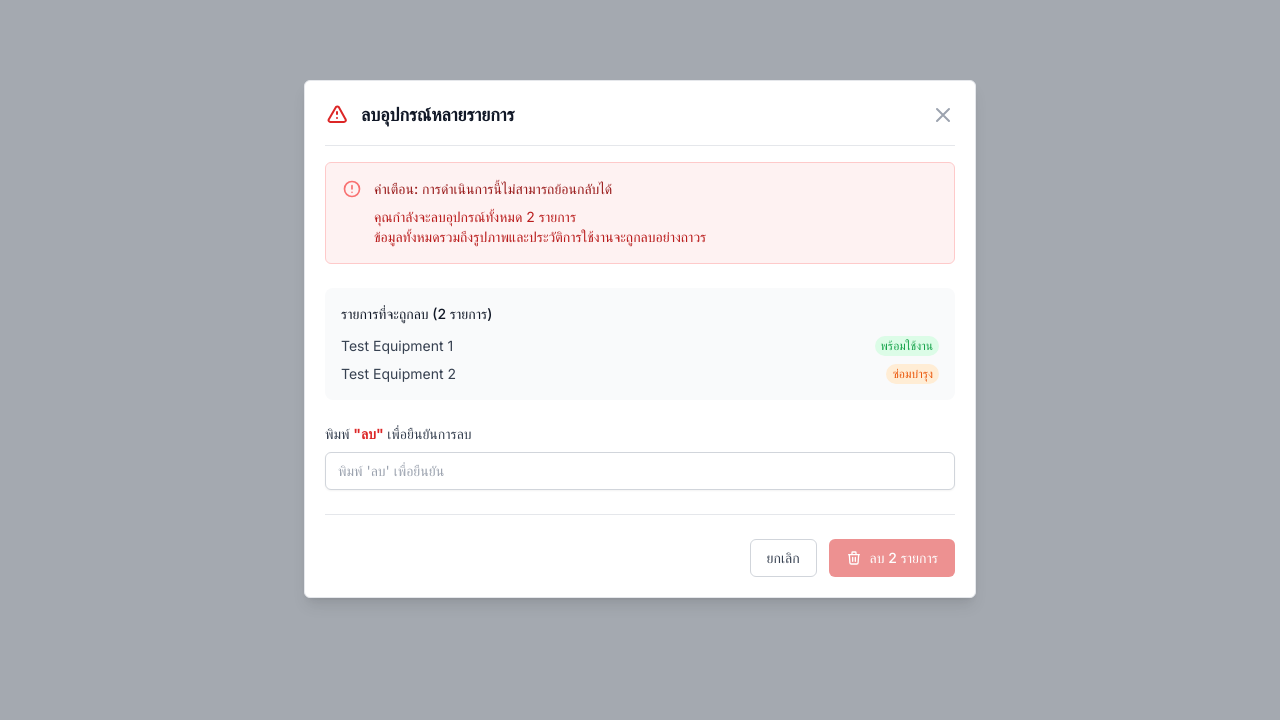
Bulk Operations › BulkDeleteModal › requires confirmation text to enable delete button
Expected: the button "ลบ 2 รายการ" is disabled, [829,539,955,577]
Type "ลบ" into the field with placeholder "พิมพ์ 'ลบ' เพื่อยืนยัน" at (640, 471), box [325,452,955,490]
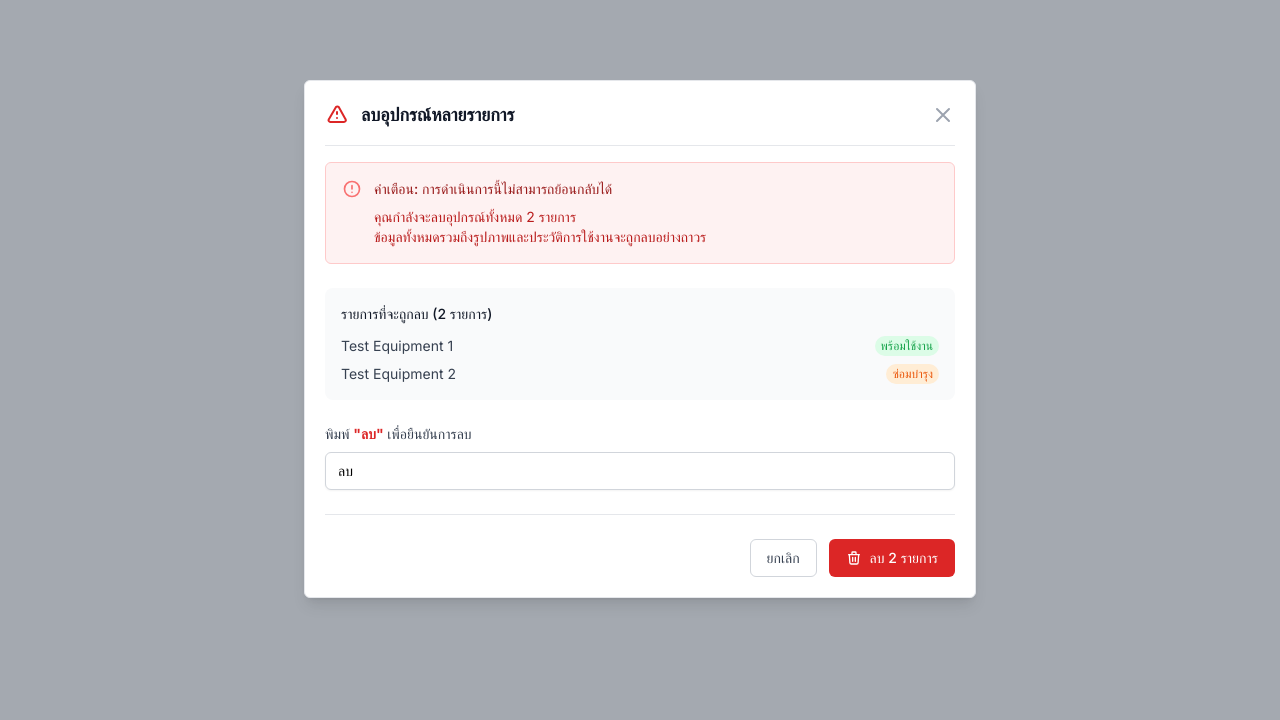
Expected: the button "ลบ 2 รายการ" is enabled, [829,539,955,577]
